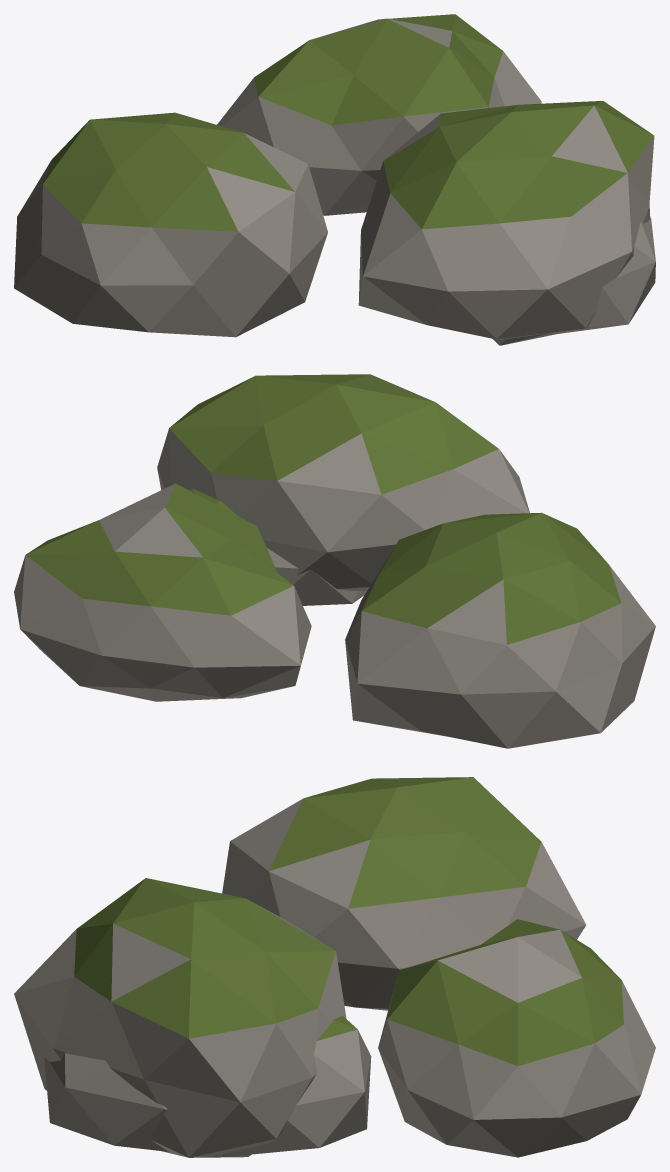
The model's file is UM_Felsgruppe.fbx.
3 renders of one model, top to bottom at view 1: azimuth 30°, elevation 25°; view 2: azimuth 150°, elevation 25°; view 3: azimuth 270°, elevation 25°, orthographic. The views are drawn at different scales.
Visible parts, largest first — view 1: UM_Felsgruppe; view 2: UM_Felsgruppe; view 3: UM_Felsgruppe.
Boxes of the visible parts, x1,y1,x2,y2 form: UM_Felsgruppe: (14,14,655,345); UM_Felsgruppe: (14,374,655,748); UM_Felsgruppe: (14,777,655,1157).
Bounding box in the file's own units: 4.91 × 1.68 × 4.63.
